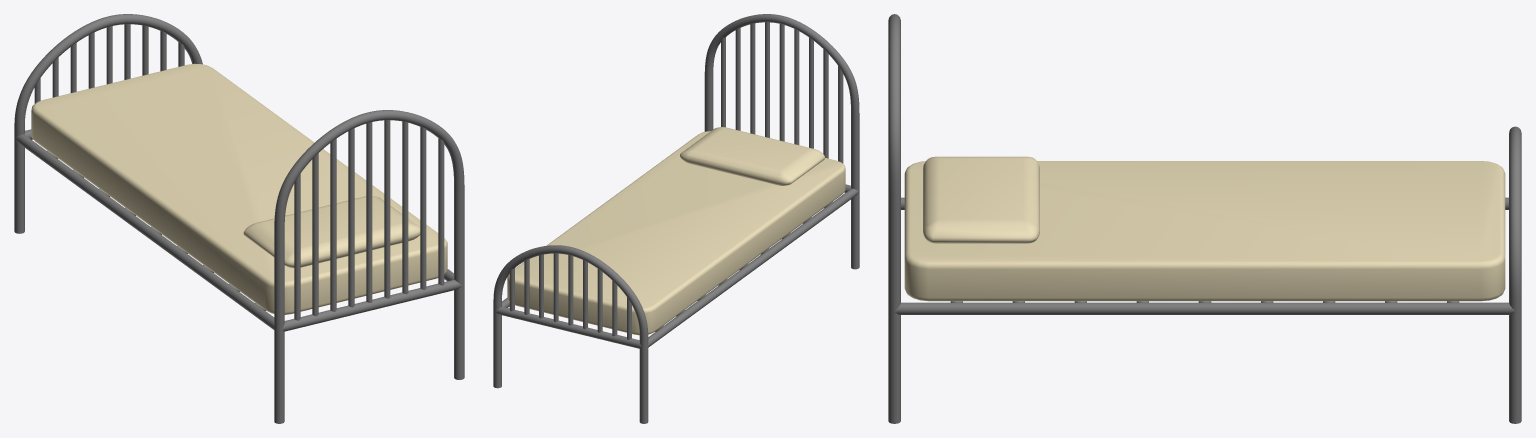
File: Bed_1.fbx
3 views of the same model, side by side, from view 1: azimuth 30°, elevation 25°; view 2: azimuth 150°, elevation 25°; view 3: azimuth 270°, elevation 25° (orthographic). The views are drawn at different scales.
Visible parts, largest first — view 1: Cube, Cylinder.009, NurbsCurve, Cube.001, NurbsCurve.001, Cylinder.002, Cylinder.003, Cylinder; view 2: Cube, Cylinder.009, Cube.001, NurbsCurve, NurbsCurve.001, Cylinder.003, Cylinder.002, Cylinder; view 3: Cube, Cube.001, Cylinder.001, NurbsCurve, NurbsCurve.001.
Boxes of the visible parts, x1=… form: Cube: x1=31, y1=63, x2=447, y2=314; Cylinder.009: x1=294, y1=120, x2=444, y2=320; NurbsCurve: x1=274, y1=110, x2=464, y2=423; Cube.001: x1=243, y1=196, x2=420, y2=267; NurbsCurve.001: x1=14, y1=14, x2=202, y2=233; Cylinder.002: x1=15, y1=134, x2=274, y2=329; Cylinder.003: x1=34, y1=24, x2=184, y2=103; Cylinder: x1=24, y1=129, x2=461, y2=331; Cube: x1=507, y1=131, x2=845, y2=335; Cylinder.009: x1=721, y1=22, x2=843, y2=163; Cube.001: x1=680, y1=127, x2=824, y2=185; NurbsCurve: x1=704, y1=14, x2=859, y2=269; NurbsCurve.001: x1=493, y1=245, x2=648, y2=423; Cylinder.003: x1=509, y1=253, x2=631, y2=339; Cylinder.002: x1=647, y1=188, x2=858, y2=347; Cylinder: x1=495, y1=184, x2=851, y2=348; Cube: x1=904, y1=161, x2=1505, y2=301; Cube.001: x1=923, y1=156, x2=1039, y2=243; Cylinder.001: x1=894, y1=302, x2=1515, y2=314; NurbsCurve: x1=888, y1=14, x2=900, y2=423; NurbsCurve.001: x1=1509, y1=126, x2=1521, y2=423.
Bounding box in the file's own units: 210 × 305 × 510.
